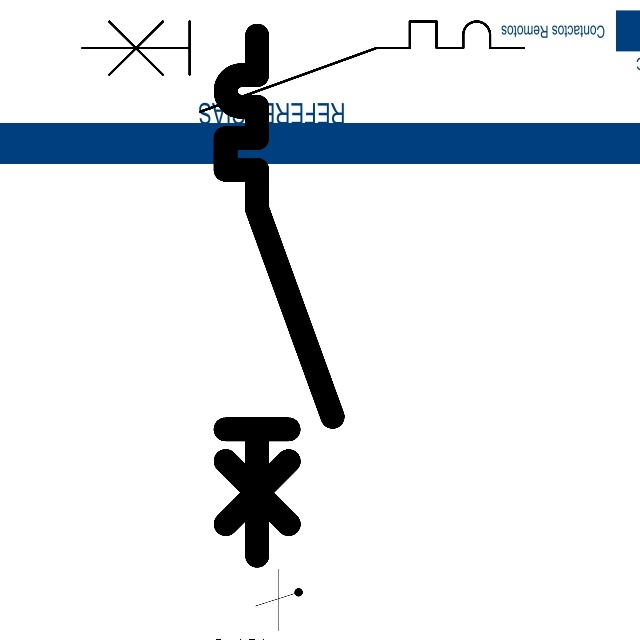interruptor_termomagnetico: (212, 22, 346, 569), (71, 10, 535, 123)
